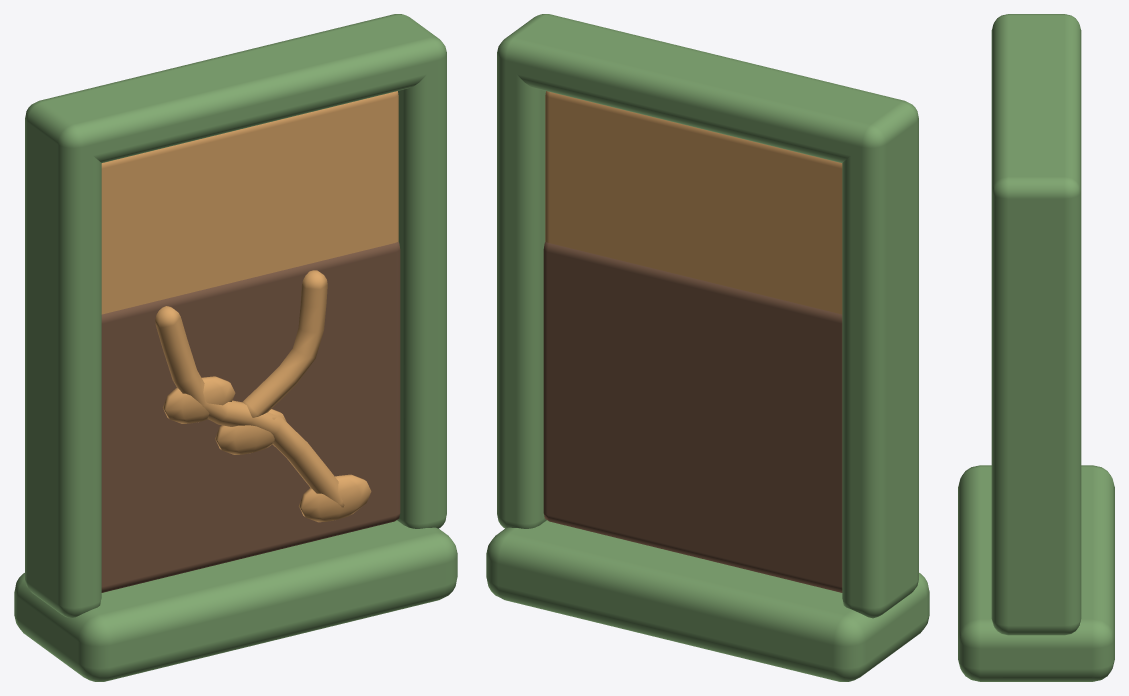
File: ant_farm.glb
3 views of the same model, side by side, from view 1: azimuth 30°, elevation 25°; view 2: azimuth 150°, elevation 25°; view 3: azimuth 270°, elevation 25° (orthographic). The views are drawn at different scales.
Visible parts, largest first — view 1: ant_farm_mesh; view 2: ant_farm_mesh; view 3: ant_farm_mesh.
Part boxes in pixels (x1=…): ant_farm_mesh: x1=14, y1=14, x2=457, y2=681; ant_farm_mesh: x1=486, y1=14, x2=929, y2=681; ant_farm_mesh: x1=958, y1=14, x2=1114, y2=681.
Bounding box in the file's own units: 0.37 × 0.5 × 0.14.
